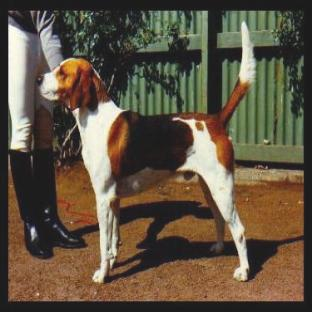Animal: (39, 21, 255, 282)
